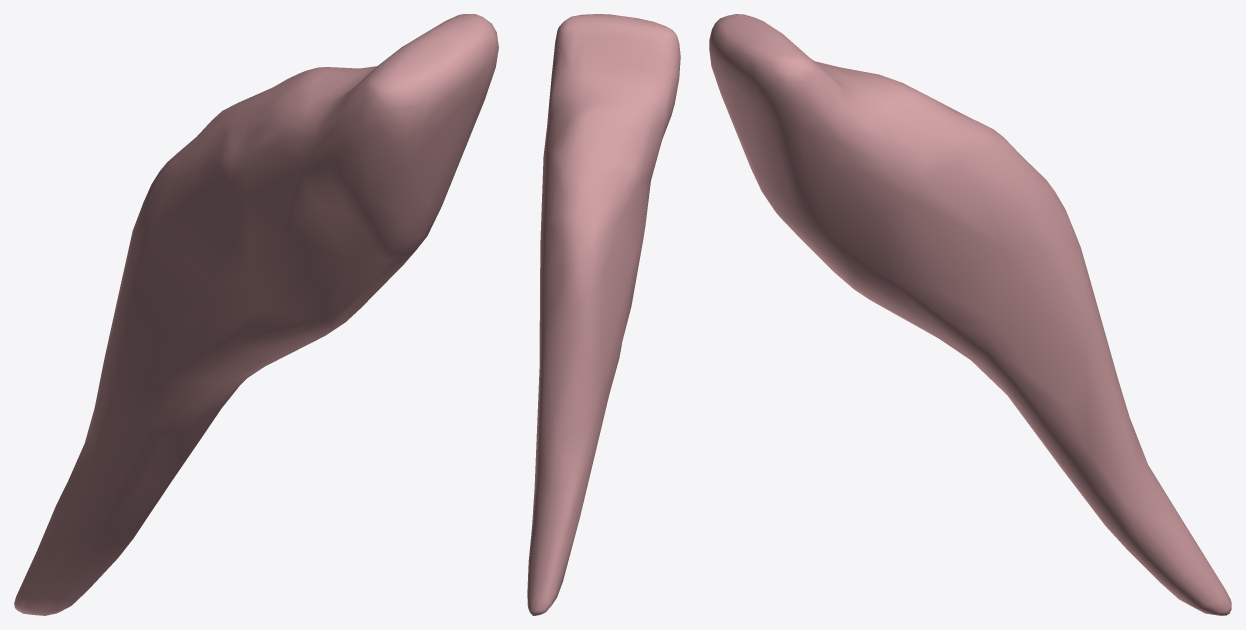
The model's file is fma57141_mm816.glb.
3 renders of one model, left to right at view 1: azimuth 30°, elevation 25°; view 2: azimuth 150°, elevation 25°; view 3: azimuth 270°, elevation 25°, orthographic. The views are drawn at different scales.
Parts seen in each view (by area): view 1: FMA57141_MM816; view 2: FMA57141_MM816; view 3: FMA57141_MM816.
Part boxes in pixels (box(x1,y1,x2,y2)): FMA57141_MM816: box(14, 14, 498, 615); FMA57141_MM816: box(527, 14, 680, 615); FMA57141_MM816: box(709, 14, 1231, 615).
Bounding box in the file's own units: 0.00729 × 0.022 × 0.0163.
